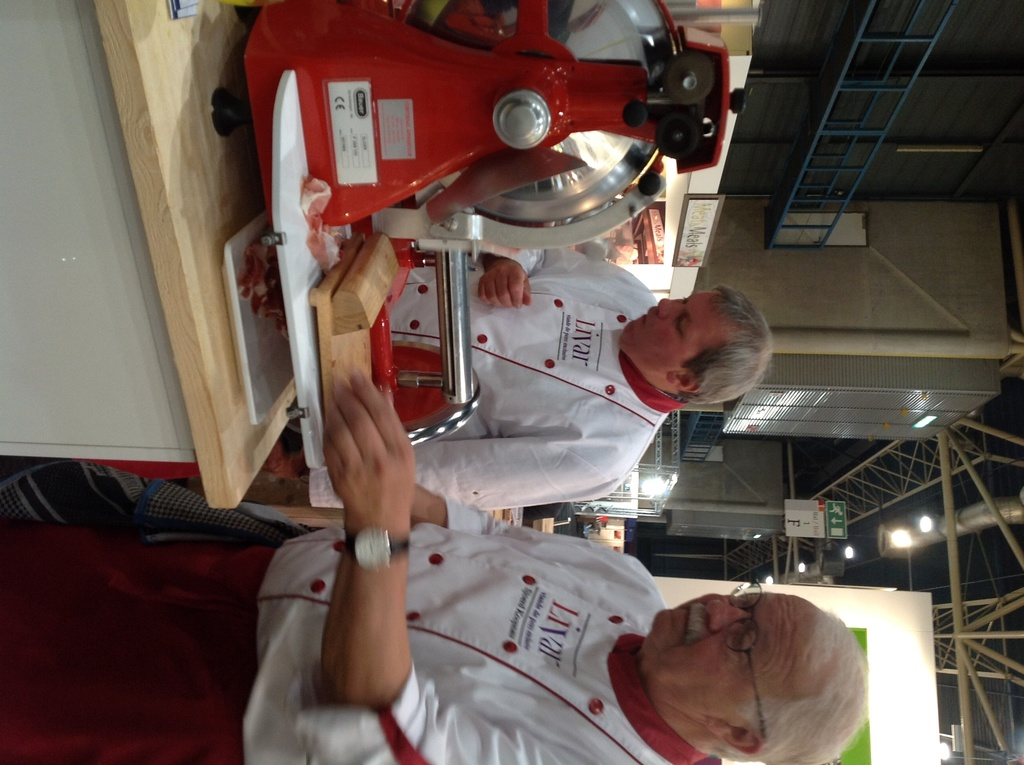Person: (0, 369, 869, 765), (367, 239, 769, 507)
